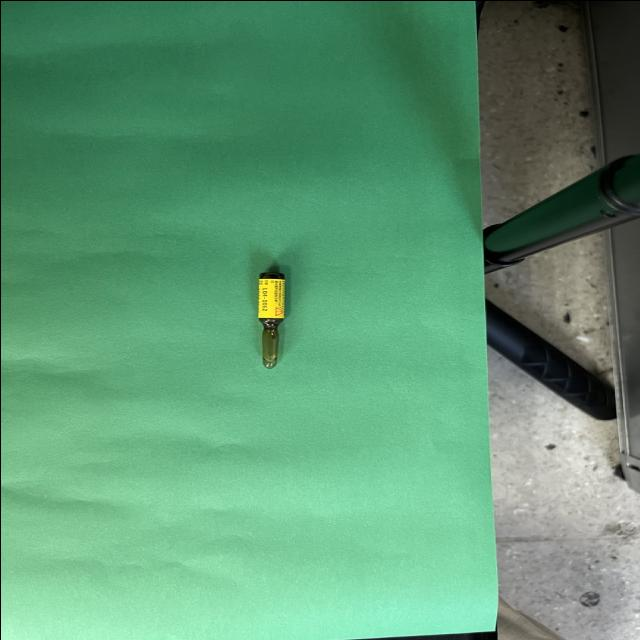Ampoules: (257, 271, 285, 368)
